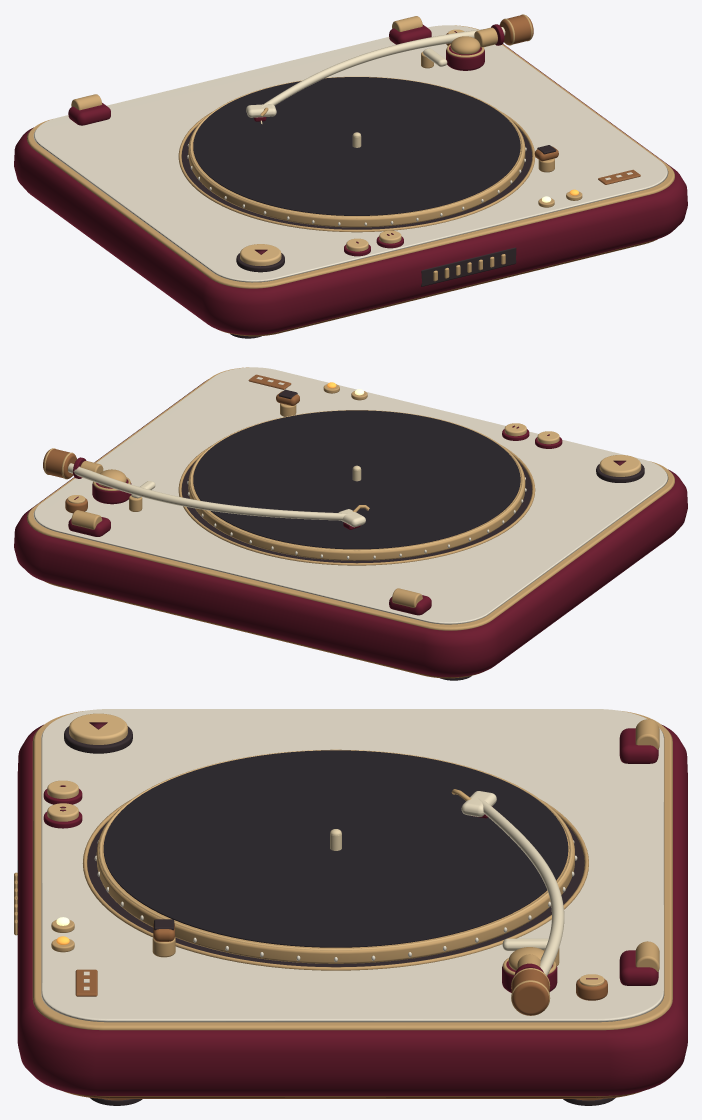
The model's file is storybook-turntable.glb.
3 views of the same model, one above another, from view 1: azimuth 30°, elevation 25°; view 2: azimuth 150°, elevation 25°; view 3: azimuth 270°, elevation 25° (orthographic). The views are drawn at different scales.
Visible parts, largest first — view 1: Plinth, Platter, Tonearm, Dust cover hinges, Tonearm base, Start stop, Tonearm rest; view 2: Plinth, Platter, Tonearm, Dust cover hinges, Tonearm base, Start stop, Tonearm rest; view 3: Plinth, Platter, Tonearm, Dust cover hinges, Start stop, Tonearm base, Tonearm rest, Button 45, Button 33.
Boxes of the visible parts, <box> form: Plinth: <box>14,25,687,338</box>; Platter: <box>187,76,526,227</box>; Tonearm: <box>246,14,533,123</box>; Dust cover hinges: <box>68,16,431,125</box>; Tonearm base: <box>446,29,484,70</box>; Start stop: <box>236,244,284,272</box>; Tonearm rest: <box>534,145,558,172</box>; Plinth: <box>14,367,687,680</box>; Platter: <box>187,410,526,560</box>; Tonearm: <box>43,448,369,529</box>; Dust cover hinges: <box>68,510,431,615</box>; Tonearm base: <box>65,469,131,513</box>; Start stop: <box>596,455,644,482</box>; Tonearm rest: <box>276,389,299,416</box>; Plinth: <box>14,709,687,1105</box>; Platter: <box>94,749,577,963</box>; Tonearm: <box>451,789,564,1015</box>; Dust cover hinges: <box>619,719,659,985</box>; Start stop: <box>64,713,132,753</box>; Tonearm base: <box>502,947,607,1000</box>; Tonearm rest: <box>152,919,175,957</box>; Button 45: <box>43,803,82,828</box>; Button 33: <box>43,780,82,804</box>.
Size of the model in its own units: 4.66 by 0.976 by 4.
